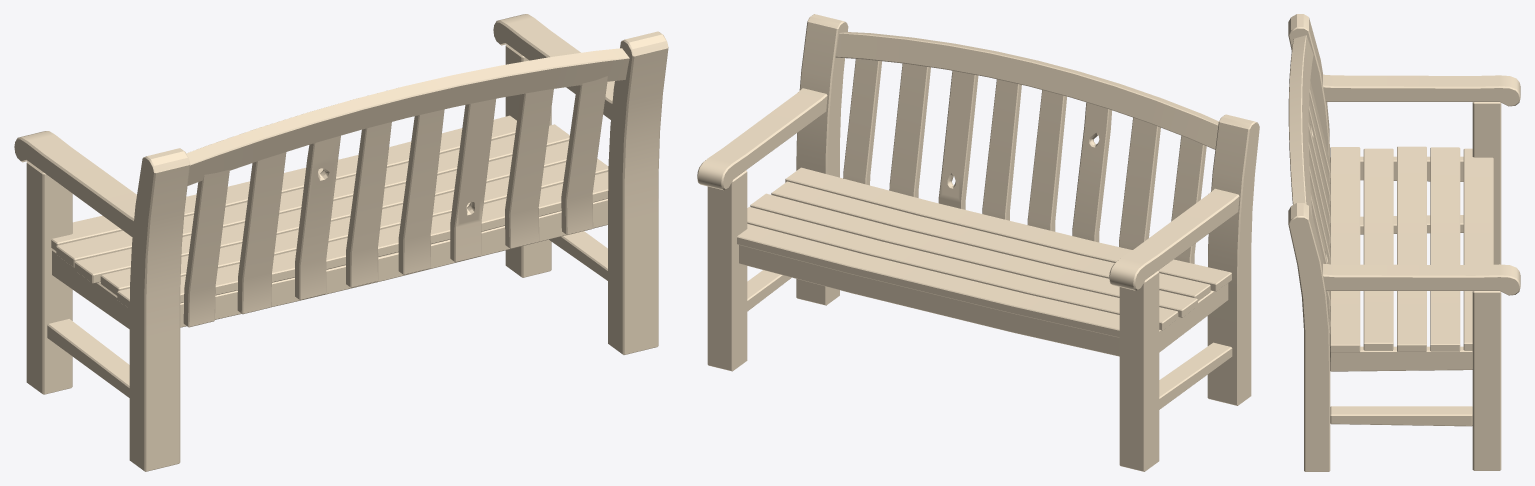
The model's file is Bench_1.fbx.
3 renders of one model, left to right at view 1: azimuth 30°, elevation 25°; view 2: azimuth 150°, elevation 25°; view 3: azimuth 270°, elevation 25°, orthographic. The views are drawn at different scales.
Parts seen in each view (by area): view 1: Bench_1; view 2: Bench_1; view 3: Bench_1.
Part boxes in pixels (box(x1,y1,x2,y2)): Bench_1: box(14, 14, 668, 471); Bench_1: box(697, 14, 1259, 471); Bench_1: box(1288, 14, 1520, 471).
Size of the model in its own units: 144 by 86.94 by 69.62.
1 material, 1 textured.
